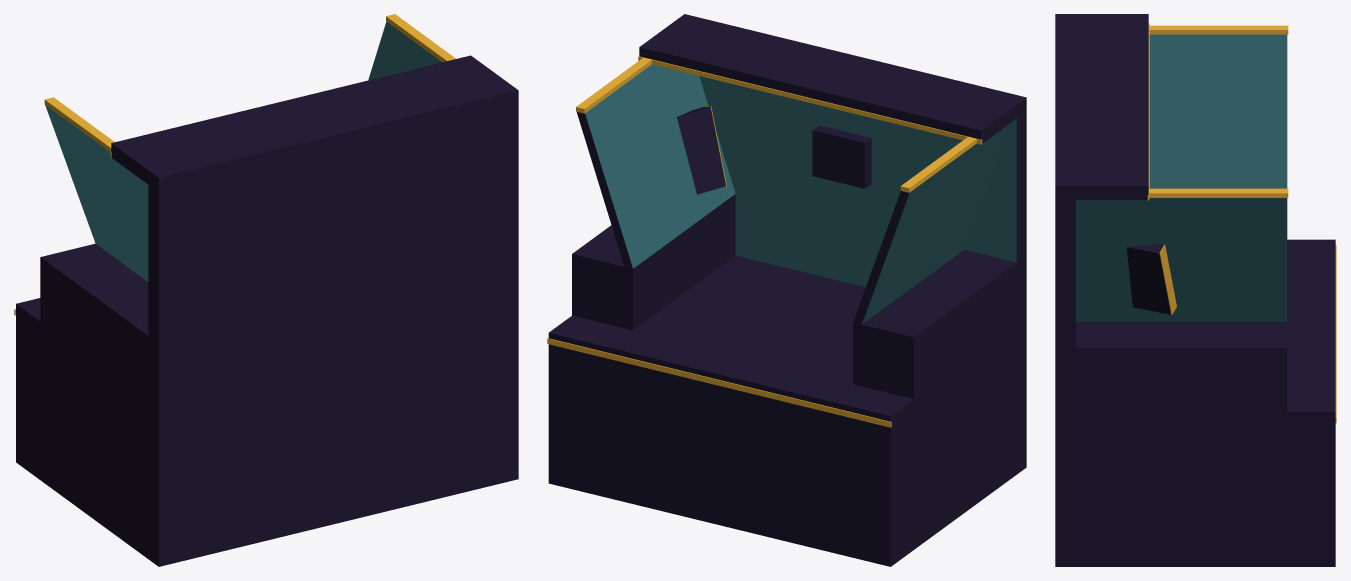
Rendered from Cabinet.obj.
3 views of the same model, side by side, from view 1: azimuth 30°, elevation 25°; view 2: azimuth 150°, elevation 25°; view 3: azimuth 270°, elevation 25° (orthographic). The views are drawn at different scales.
Parts seen in each view (by area): view 1: Cabinet; view 2: Cabinet; view 3: Cabinet.
Part boxes in pixels (box(x1,y1,x2,y2)): Cabinet: box(14, 14, 518, 566); Cabinet: box(547, 14, 1026, 566); Cabinet: box(1055, 14, 1336, 566).
Size of the model in its own units: 0.788 by 0.81 by 0.542.
